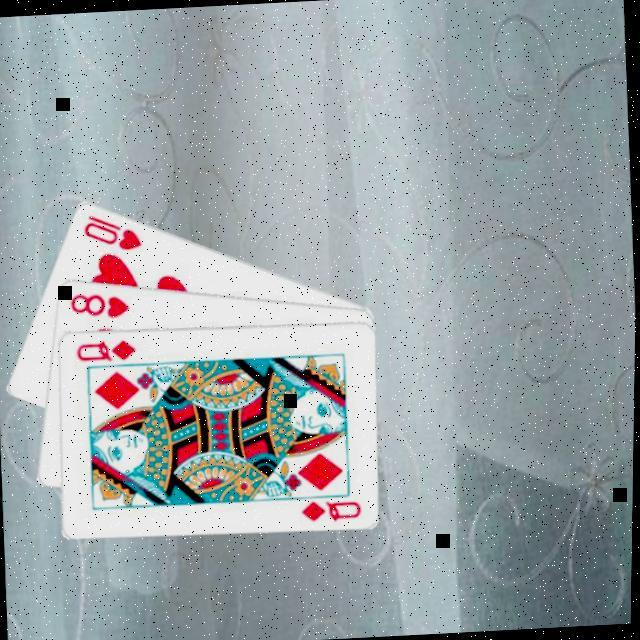10H: (80, 206, 146, 254)
8H: (68, 285, 134, 321)
QD: (74, 333, 140, 364), (299, 494, 366, 523)
